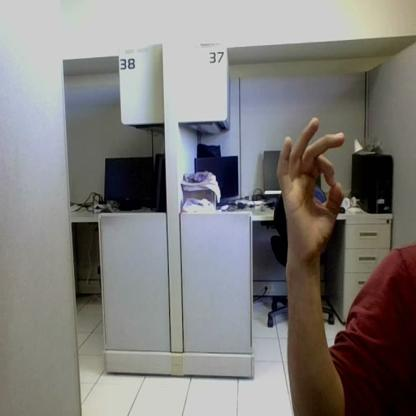F: (278, 117, 345, 259)
